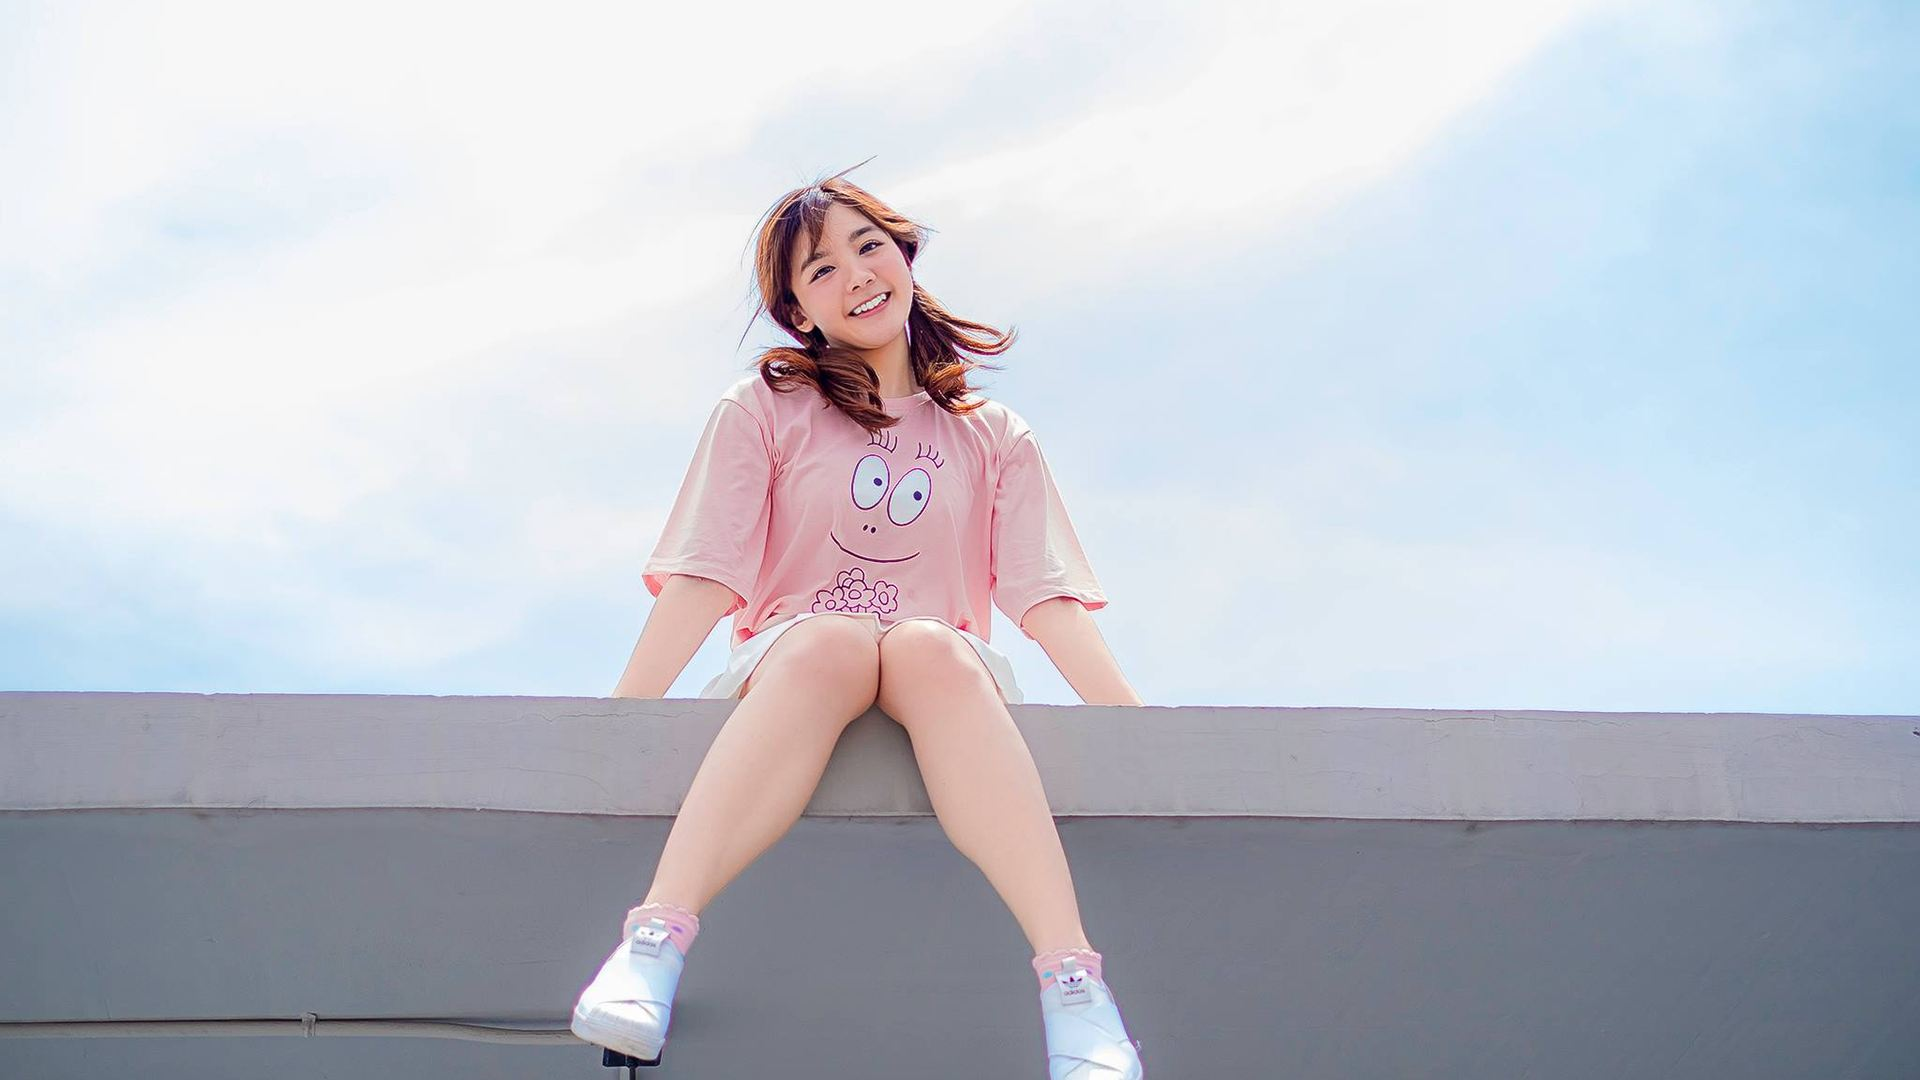person: (551, 77, 1230, 1032)
